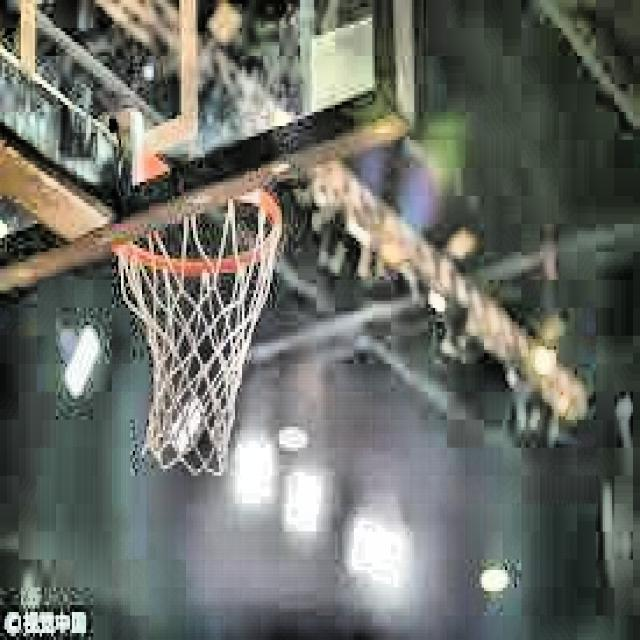rim: (111, 182, 285, 476)
